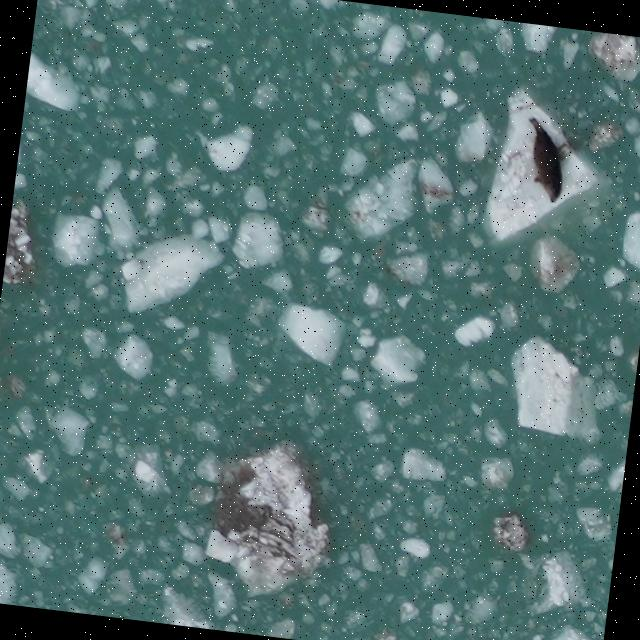seal: (514, 112, 573, 208)
